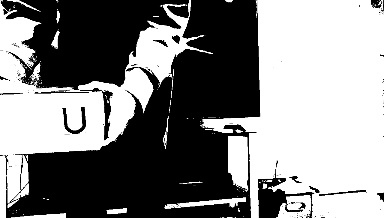U: (59, 104, 86, 134)
